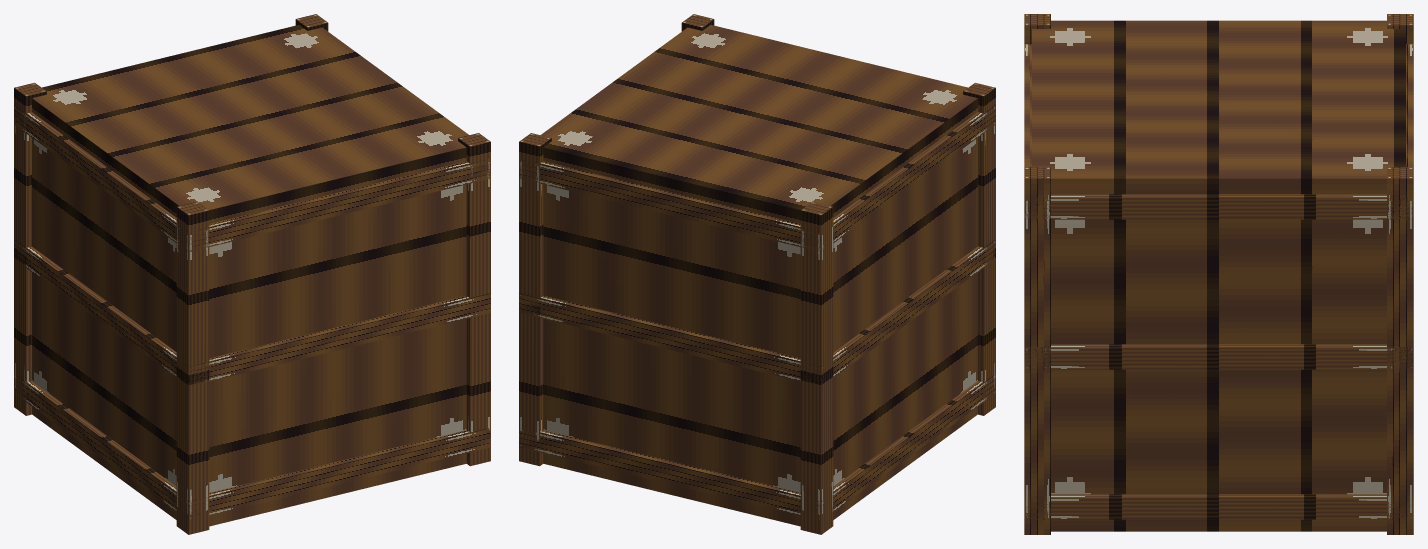
Rendered from crate_textured.glb.
The picture shows the model from 3 angles, left to right: view 1: azimuth 30°, elevation 25°; view 2: azimuth 150°, elevation 25°; view 3: azimuth 270°, elevation 25°; orthographic projection. The views are drawn at different scales.
Parts seen in each view (by area): view 1: crate_textured; view 2: crate_textured; view 3: crate_textured.
Boxes of the visible parts, x1,y1,x2,y2 form: crate_textured: (14, 14, 490, 534); crate_textured: (519, 14, 995, 534); crate_textured: (1024, 14, 1413, 534).
Size of the model in its own units: 0.8 by 0.808 by 0.8.
Materials: 1 (1 with a texture image).
